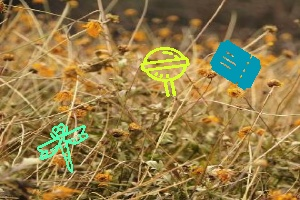垃圾桶: (210, 40, 262, 89)
蜻蜓: (39, 123, 90, 173)
铃铛: (140, 47, 188, 97)
